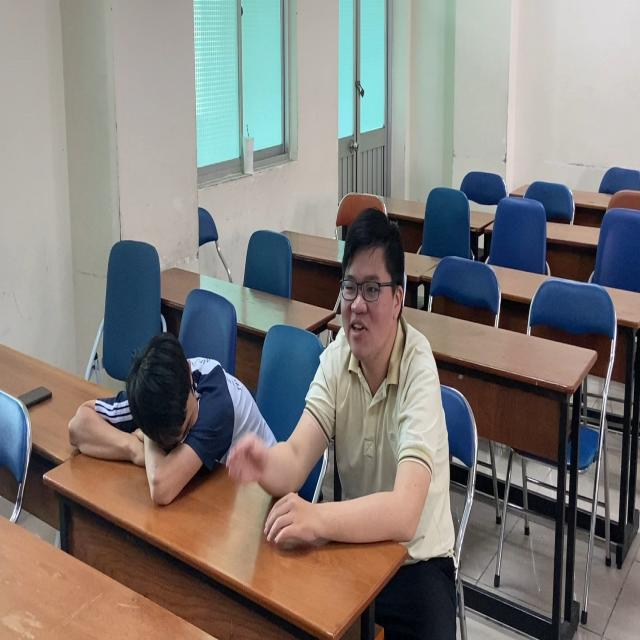sleep: (64, 326, 277, 521)
